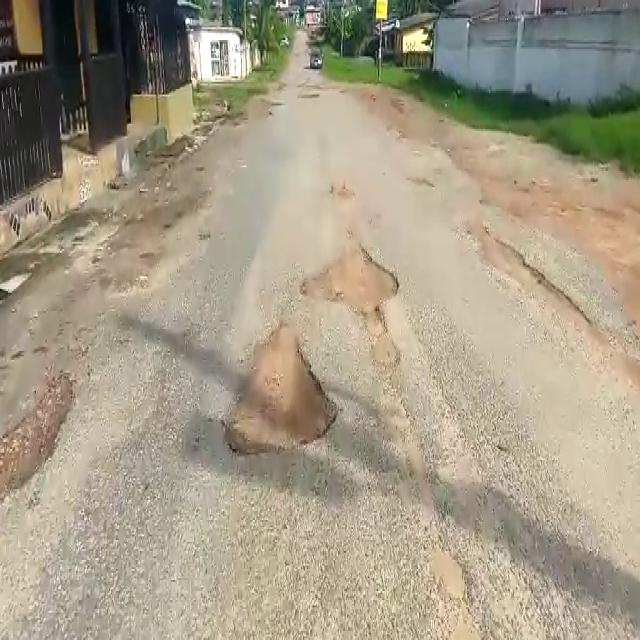Pothole: (212, 324, 347, 458), (0, 358, 83, 508), (292, 242, 406, 320)
